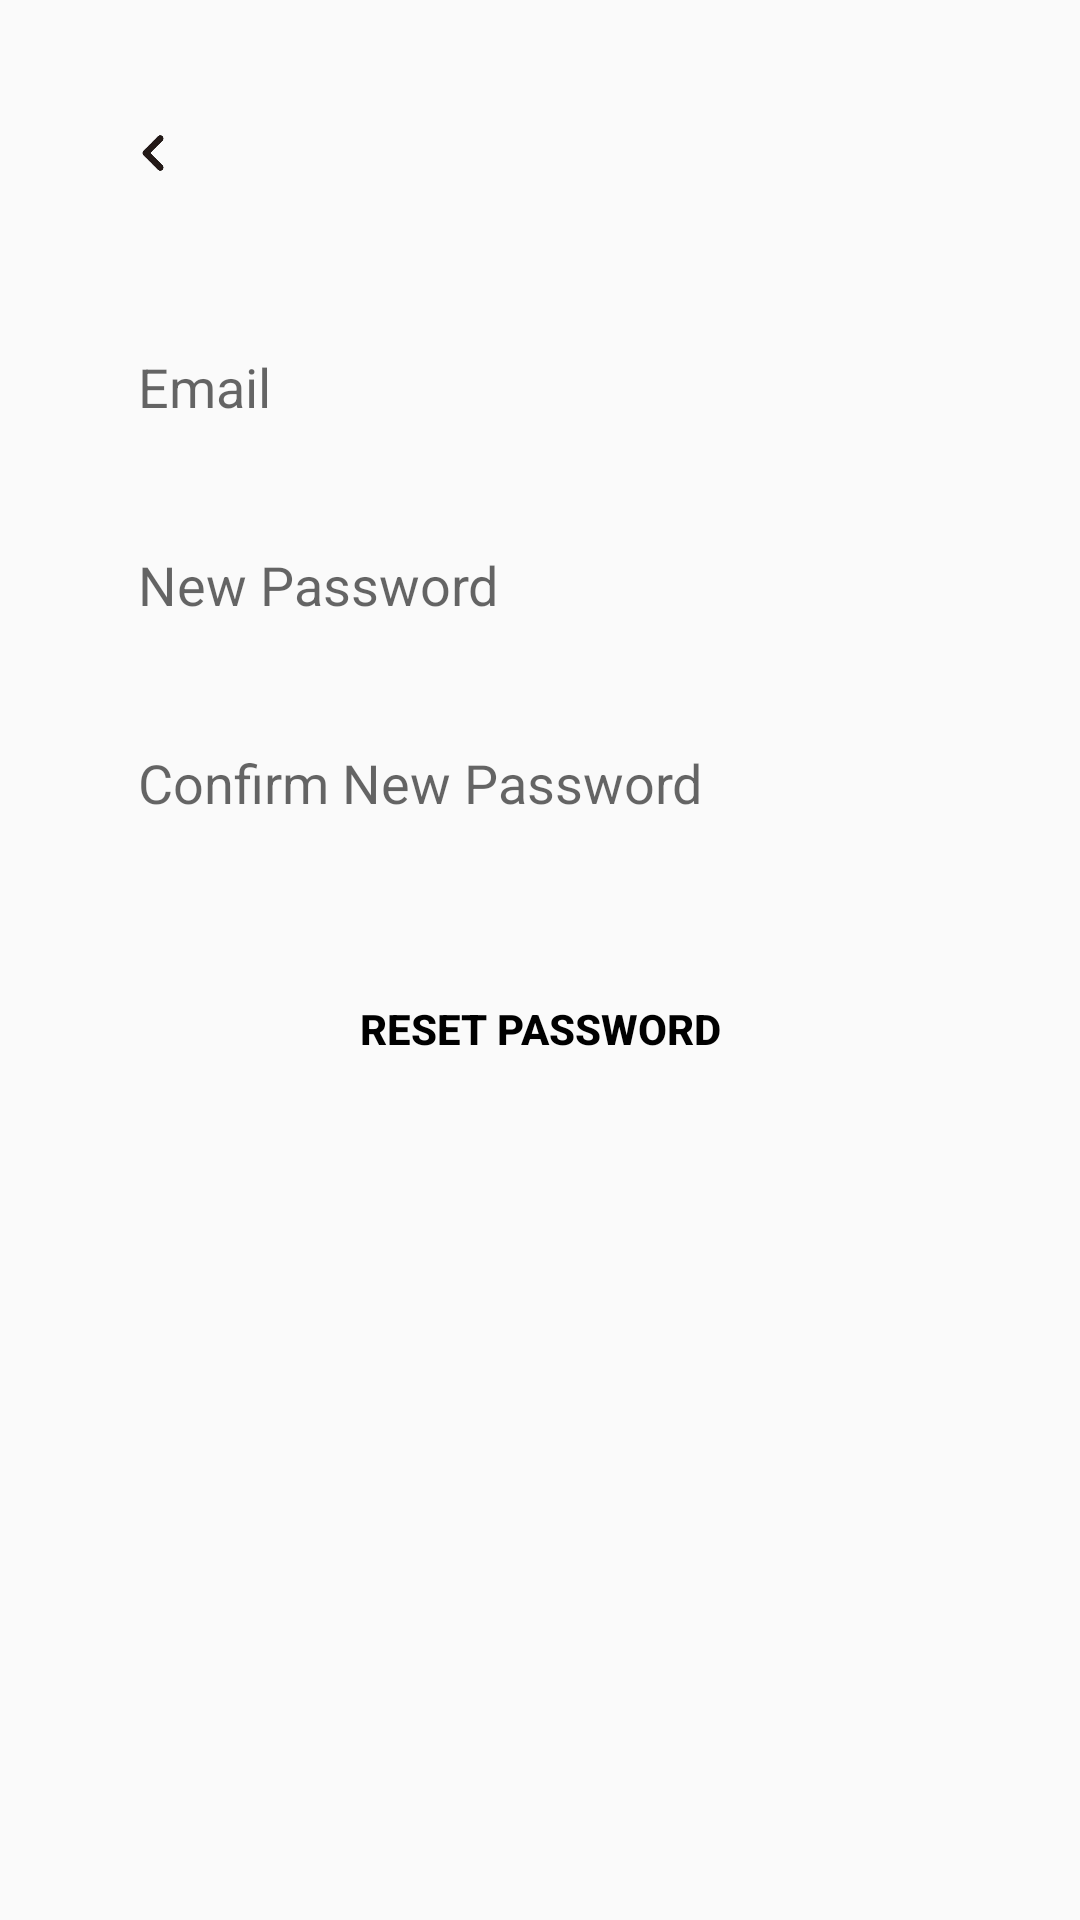

Where to tap for icons on this 1080 x 1920 app screen, as (x,y):
Back: (153,153)
